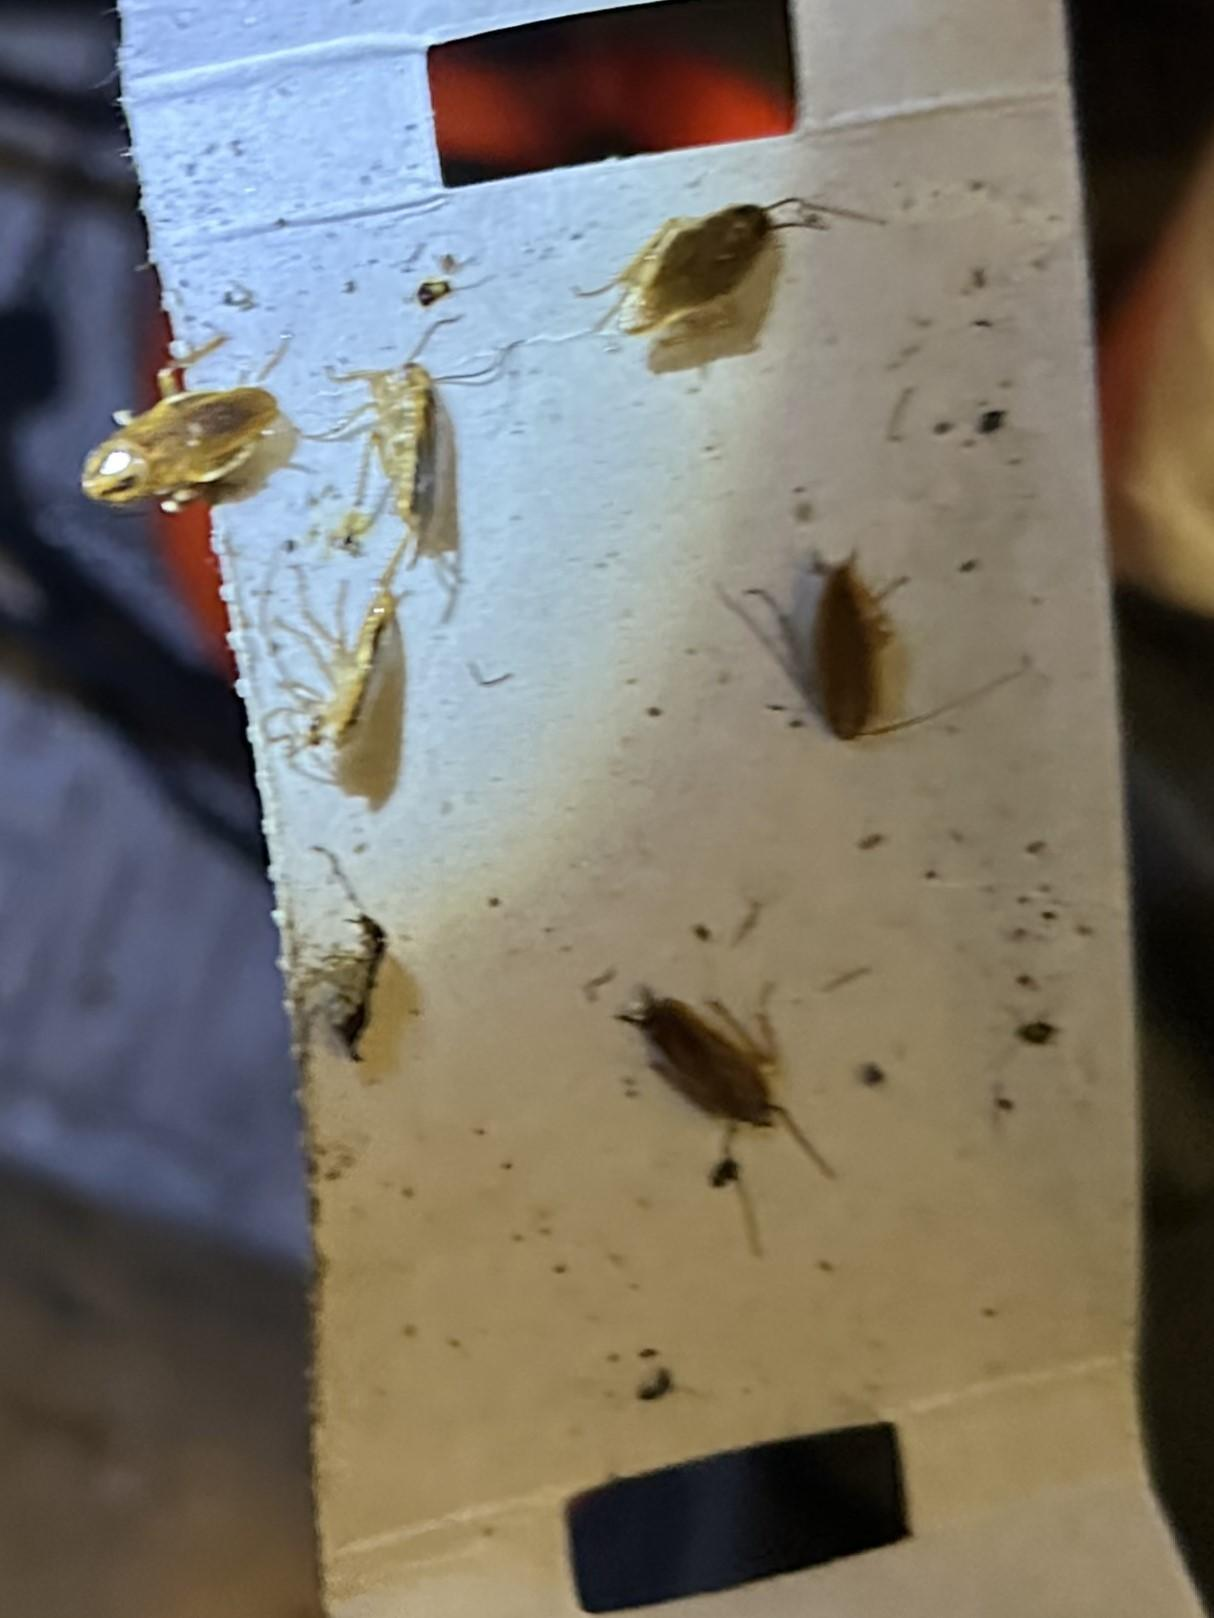cockroach: (570, 937, 862, 1270), (706, 524, 1001, 782), (574, 164, 866, 407), (47, 324, 329, 539), (340, 324, 543, 622), (281, 567, 458, 840)
